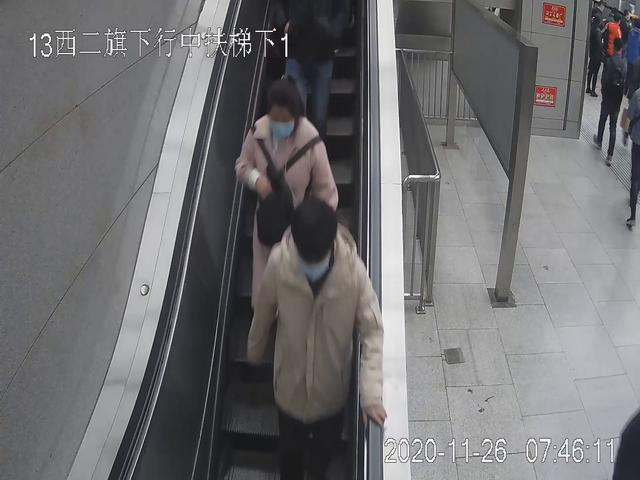person: (246, 199, 386, 480), (235, 76, 338, 422), (594, 39, 625, 165)
